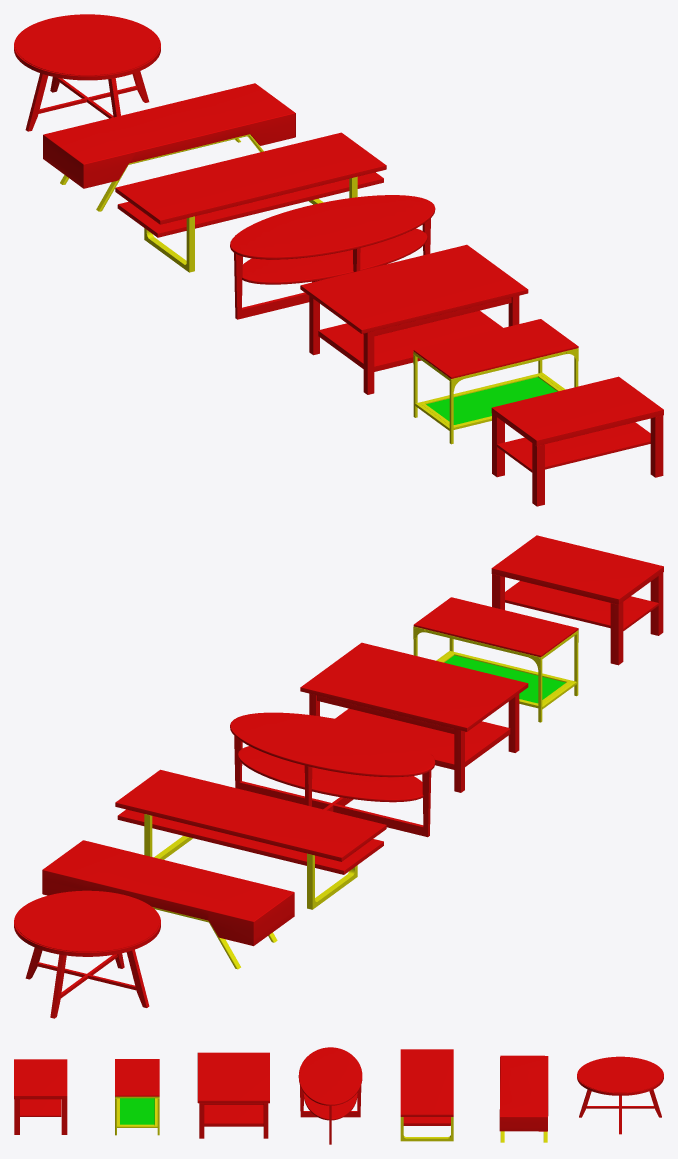
The model's file is thorkea_coffee_tables_grp.fbx.
3 renders of one model, top to bottom at view 1: azimuth 30°, elevation 25°; view 2: azimuth 150°, elevation 25°; view 3: azimuth 270°, elevation 25°, orthographic. The views are drawn at different scales.
Parts seen in each view (by area): view 1: thorkea_coffee_table_hemnes, thorkea_coffee_table_lisabo, thorkea_coffee_table_vejmon, thorkea_coffee_table_bankas, thorkea_coffee_table_lack, thorkea_coffee_table_fjallbo, thorkea_coffee_table_kragsta; view 2: thorkea_coffee_table_hemnes, thorkea_coffee_table_lisabo, thorkea_coffee_table_vejmon, thorkea_coffee_table_bankas, thorkea_coffee_table_lack, thorkea_coffee_table_kragsta, thorkea_coffee_table_fjallbo; view 3: thorkea_coffee_table_hemnes, thorkea_coffee_table_lisabo, thorkea_coffee_table_vejmon, thorkea_coffee_table_bankas, thorkea_coffee_table_kragsta, thorkea_coffee_table_lack, thorkea_coffee_table_fjallbo.
Part boxes in pixels (x1=…): thorkea_coffee_table_hemnes: x1=300, y1=244, x2=528, y2=394; thorkea_coffee_table_lisabo: x1=115, y1=132, x2=386, y2=272; thorkea_coffee_table_vejmon: x1=230, y1=195, x2=435, y2=319; thorkea_coffee_table_bankas: x1=43, y1=83, x2=295, y2=211; thorkea_coffee_table_lack: x1=491, y1=376, x2=663, y2=506; thorkea_coffee_table_fjallbo: x1=413, y1=319, x2=578, y2=444; thorkea_coffee_table_kragsta: x1=14, y1=14, x2=160, y2=131; thorkea_coffee_table_hemnes: x1=300, y1=642, x2=528, y2=792; thorkea_coffee_table_lisabo: x1=115, y1=769, x2=386, y2=909; thorkea_coffee_table_vejmon: x1=230, y1=712, x2=435, y2=837; thorkea_coffee_table_bankas: x1=42, y1=840, x2=294, y2=969; thorkea_coffee_table_lack: x1=491, y1=535, x2=663, y2=665; thorkea_coffee_table_kragsta: x1=14, y1=890, x2=160, y2=1018; thorkea_coffee_table_fjallbo: x1=413, y1=597, x2=578, y2=722; thorkea_coffee_table_hemnes: x1=197, y1=1052, x2=269, y2=1138; thorkea_coffee_table_lisabo: x1=400, y1=1049, x2=453, y2=1141; thorkea_coffee_table_vejmon: x1=298, y1=1047, x2=362, y2=1144; thorkea_coffee_table_bankas: x1=499, y1=1055, x2=548, y2=1142; thorkea_coffee_table_kragsta: x1=577, y1=1056, x2=663, y2=1134; thorkea_coffee_table_lack: x1=14, y1=1059, x2=67, y2=1134; thorkea_coffee_table_fjallbo: x1=115, y1=1059, x2=159, y2=1135.
Bounding box in the file's own units: 160 × 48.06 × 673.
